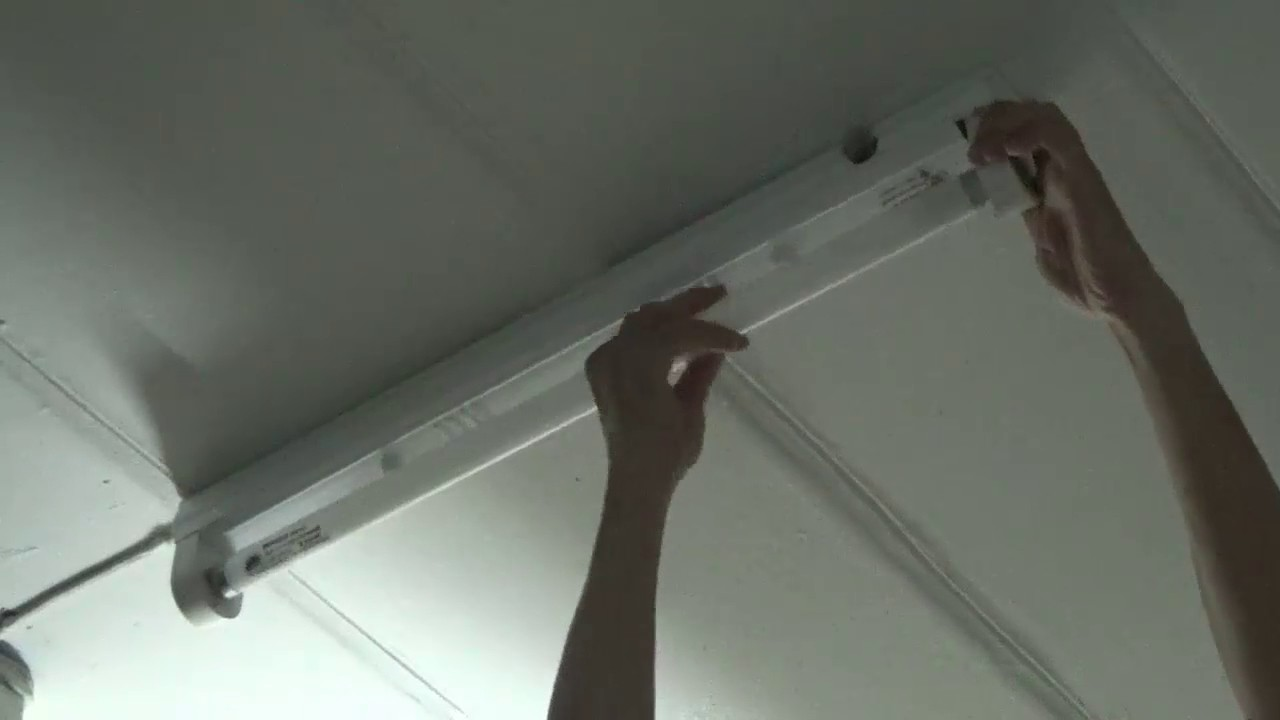Light bulb: (204, 152, 993, 609)
